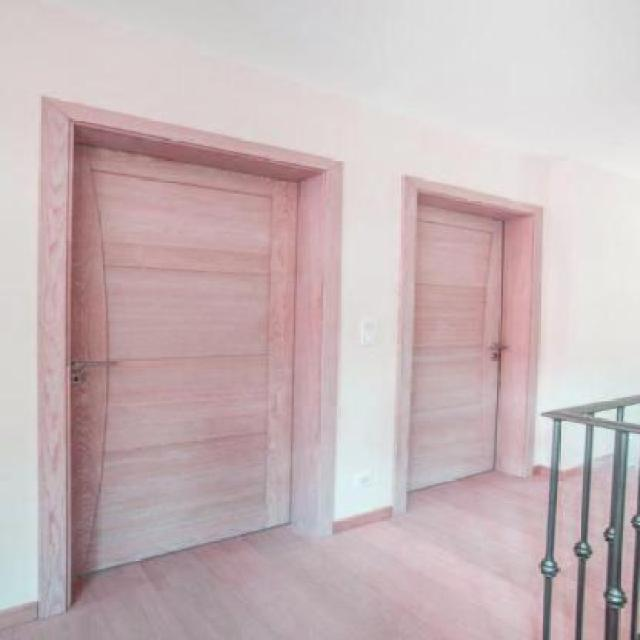door_handle: (65, 350, 128, 378), (482, 339, 515, 361)
